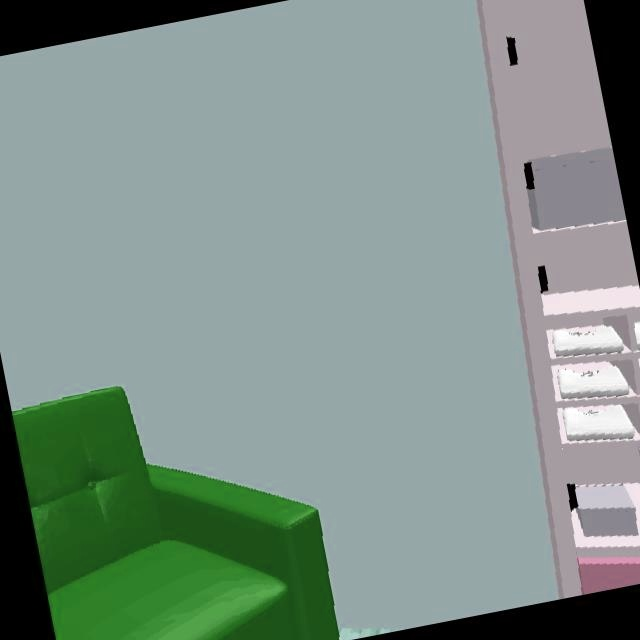sofa: (12, 388, 341, 640)
wardrobe: (479, 0, 640, 599)
